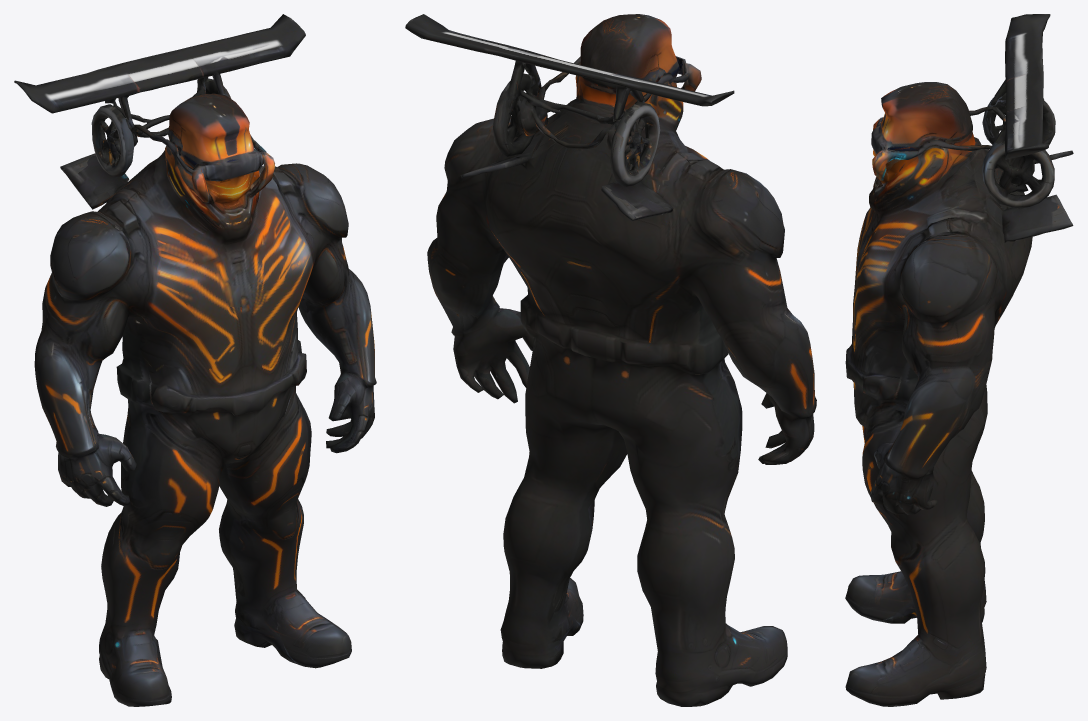
The model's file is player.glb.
The picture shows the model from 3 angles, left to right: view 1: azimuth 30°, elevation 25°; view 2: azimuth 150°, elevation 25°; view 3: azimuth 270°, elevation 25°; orthographic projection. The views are drawn at different scales.
Size of the model in its own units: 1.2 by 2 by 0.7209.
1 material, 1 textured.
